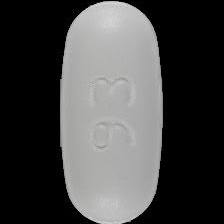61919-159: (0, 0, 224, 224)
